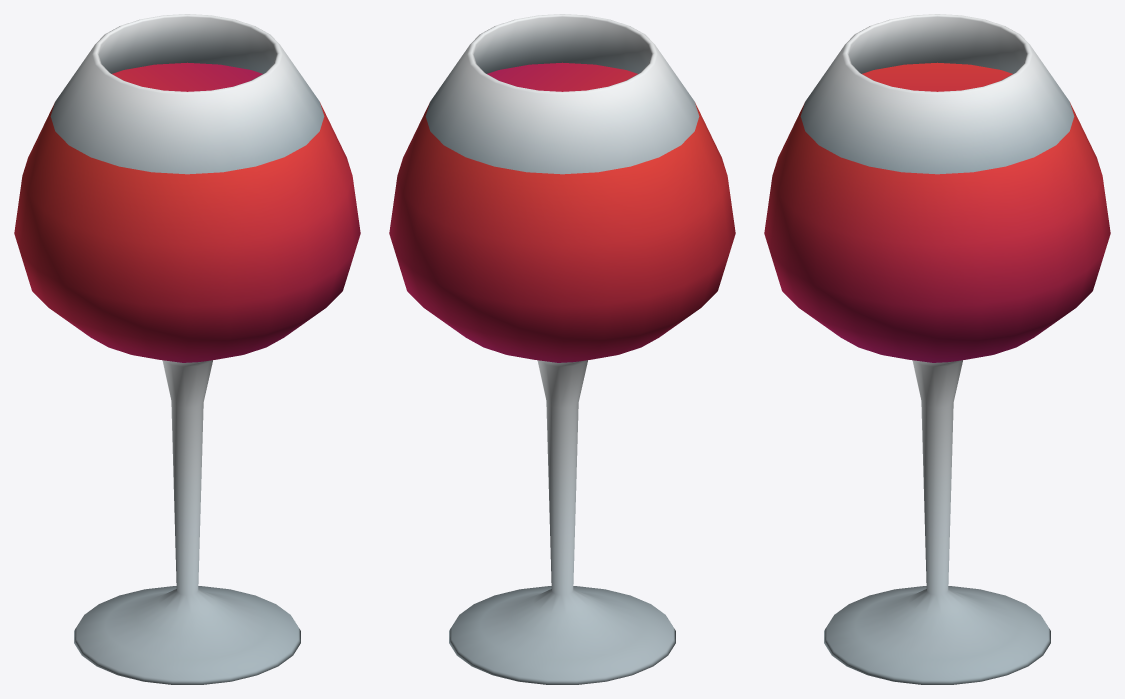
Rendered from cocktail_001.fbx.
3 views of the same model, side by side, from view 1: azimuth 30°, elevation 25°; view 2: azimuth 150°, elevation 25°; view 3: azimuth 270°, elevation 25° (orthographic).
Visible parts, largest first — view 1: cocktail_001; view 2: cocktail_001; view 3: cocktail_001.
Boxes of the visible parts, bbox=[...] form: cocktail_001: bbox=[14, 14, 360, 684]; cocktail_001: bbox=[389, 14, 735, 684]; cocktail_001: bbox=[764, 14, 1110, 684].
Bounding box in the file's own units: 11.38 × 11.38 × 21.17.
